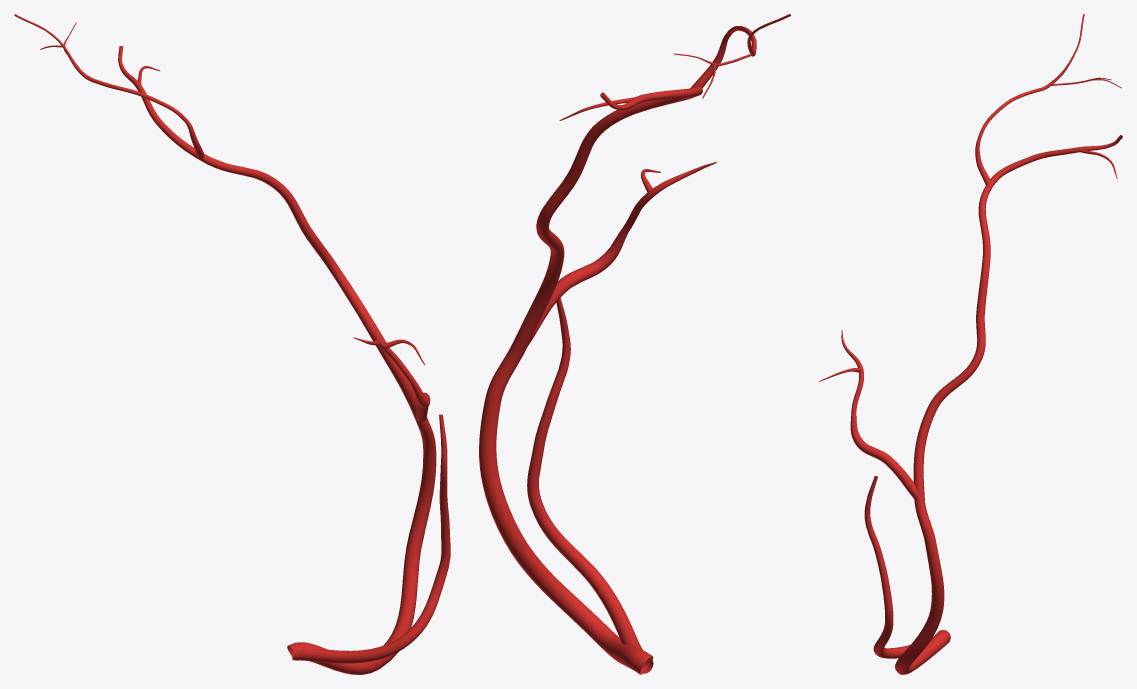
The model's file is circulatorio-artery-of-precentral-sulcus-l.glb.
3 views of the same model, side by side, from view 1: azimuth 30°, elevation 25°; view 2: azimuth 150°, elevation 25°; view 3: azimuth 270°, elevation 25° (orthographic). The views are drawn at different scales.
Visible parts, largest first — view 1: Artery of precentral sulcus.l; view 2: Artery of precentral sulcus.l; view 3: Artery of precentral sulcus.l.
Boxes of the visible parts, left/top/right/bottom form: Artery of precentral sulcus.l: left=14, top=14, right=450, bottom=674; Artery of precentral sulcus.l: left=479, top=14, right=790, bottom=674; Artery of precentral sulcus.l: left=819, top=14, right=1122, bottom=674.
Size of the model in its own units: 0.0385 by 0.071 by 0.0351.
